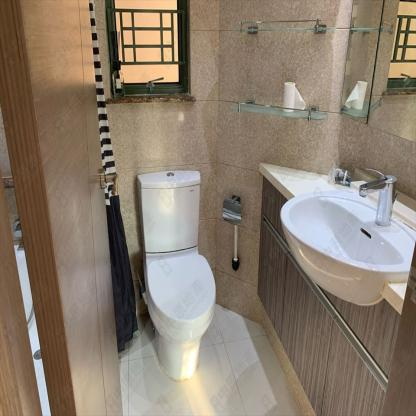Faucet: (359, 164, 395, 231)
Toilet: (136, 169, 220, 380)
Toilet Sink: (281, 188, 415, 304)
